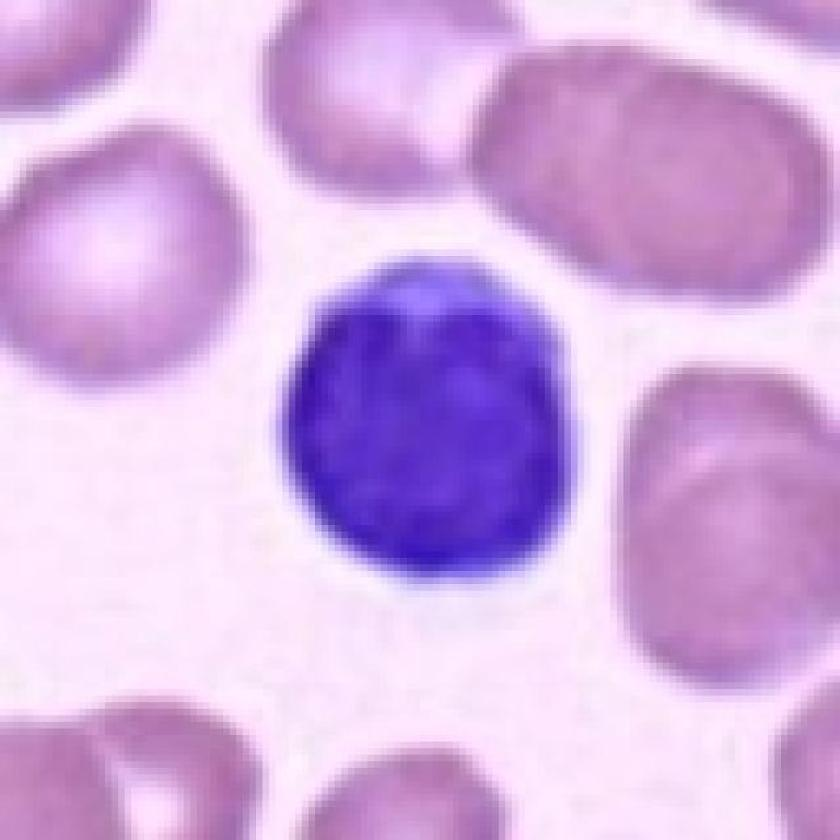lymphocyte: (272, 244, 592, 601)
